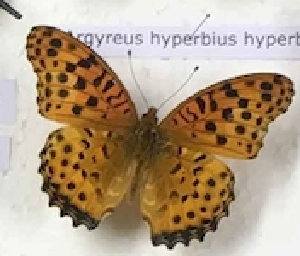Argyreus hyperbius: (23, 22, 297, 250)
butterfly: (25, 24, 299, 252)
